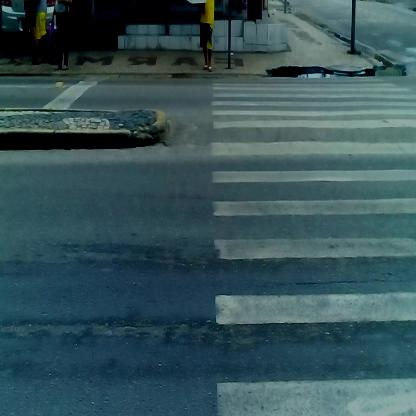crosswalk: (207, 78, 416, 416)
sidewalk: (1, 39, 390, 89)
